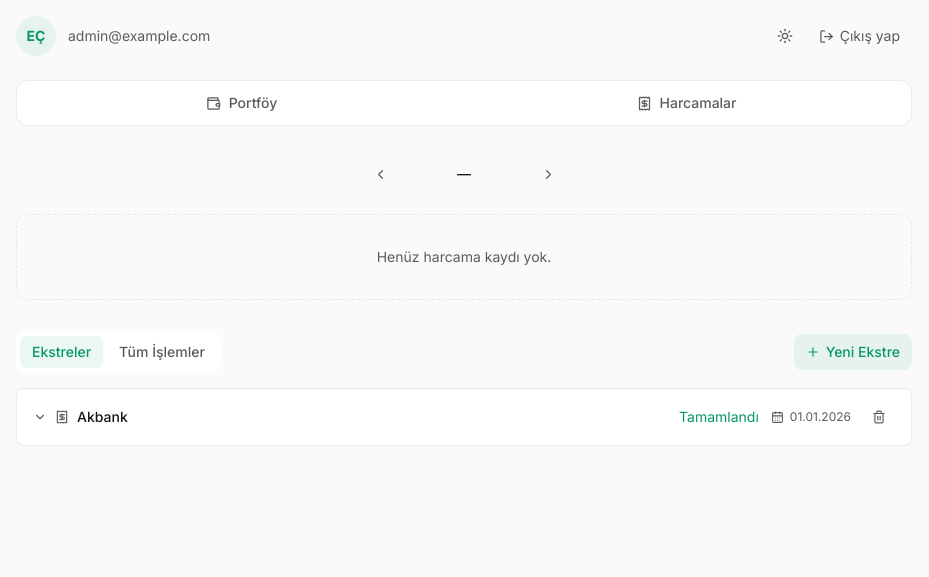
Test: Statements › toggles between the statement list and the unified transactions view
This screenshot has width=929, height=577.
Expected: the text "Akbank" is shown, [77,407,128,427]
Click the button "Tüm İşlemler": (162, 352) [107,336,217,368]
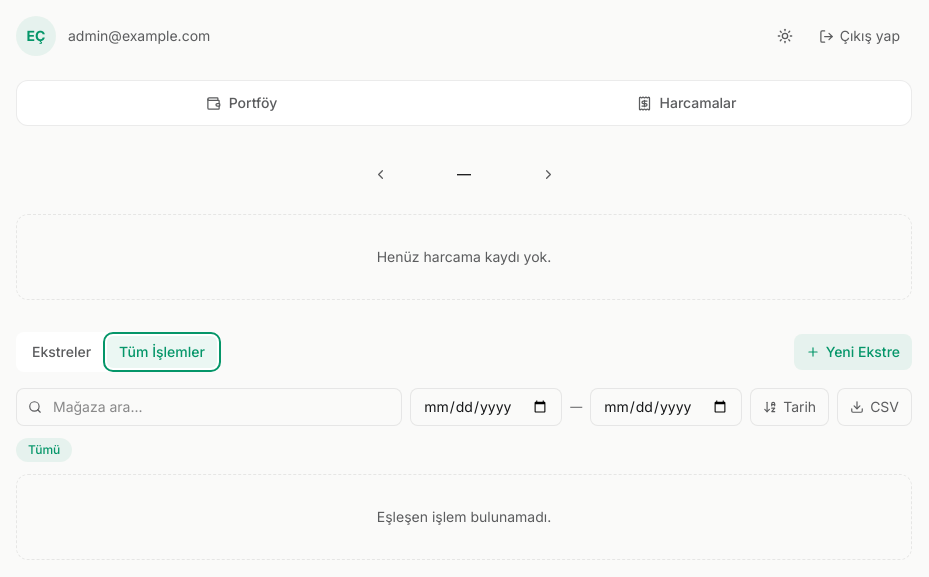
Expected: the field with placeholder "Mağaza ara..." is shown, [16,388,402,426]
Expected: the button "Akbank" is gone
